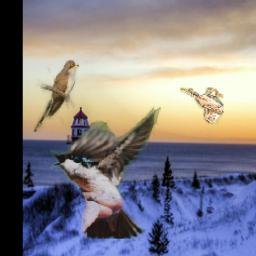Cuckoo: (34, 60, 79, 133)
Sparrow: (180, 87, 223, 124)
Swallow: (50, 107, 161, 240)
